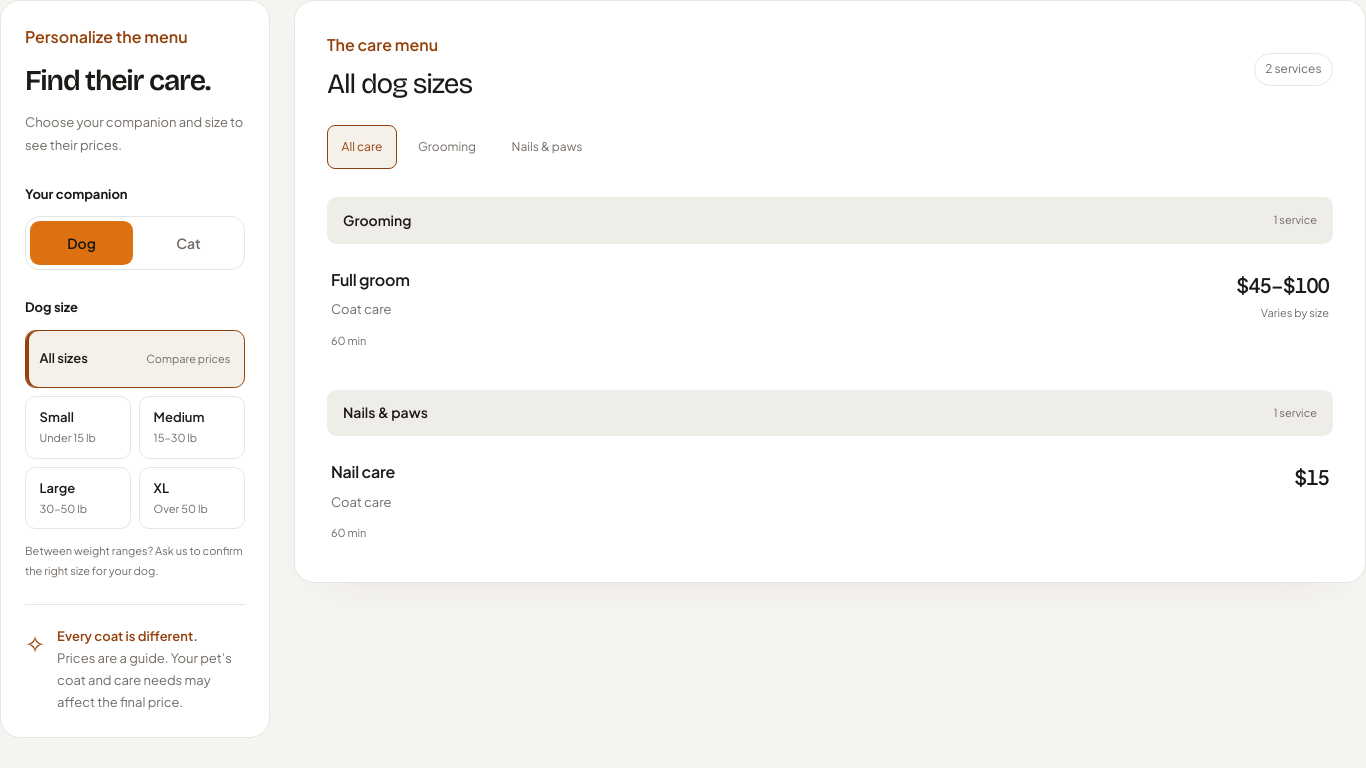
Test: ServicePricingExplorer › filters care and resets the category when switching pets, retaining shared services
Click the button "Nails & paws" at (547, 147), box left=497, top=125, right=597, bottom=169
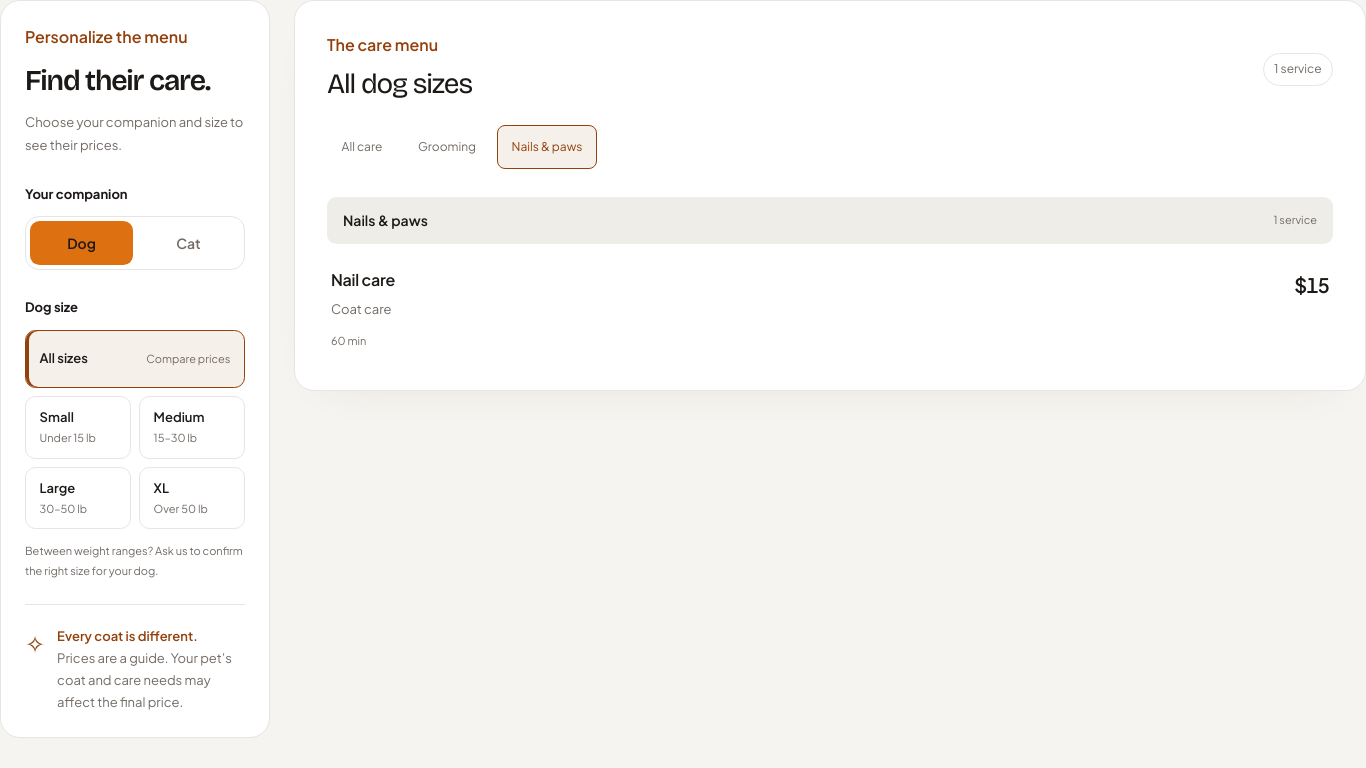
Now the heading "Full groom" is gone
Click the button "Cat" at (188, 243), box left=137, top=221, right=240, bottom=265
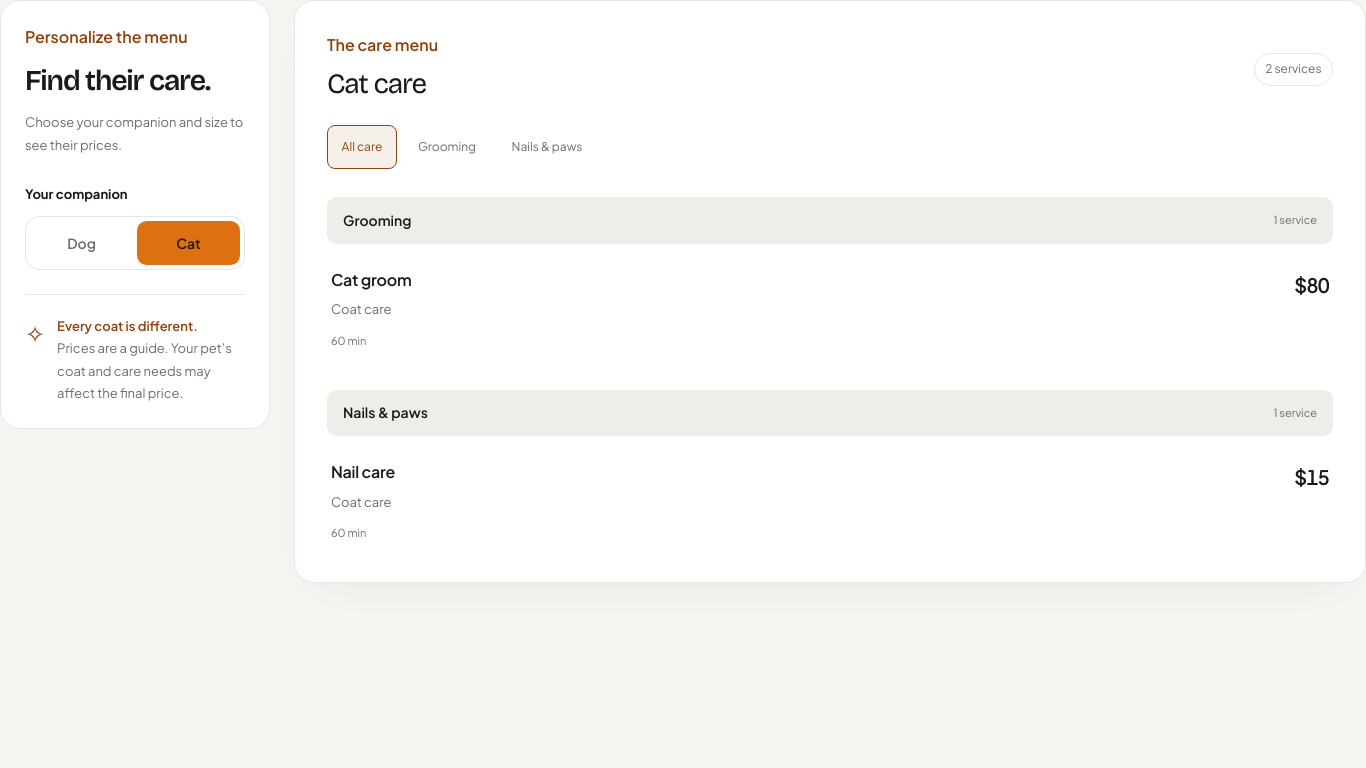
Expected: the heading "Nail care" is shown, left=331, top=460, right=395, bottom=484
Now the heading "Cat groom" is shown, box left=331, top=268, right=411, bottom=292
Now the text "Dog size" is gone
